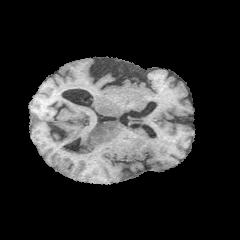glioma: (60, 121, 122, 156)
